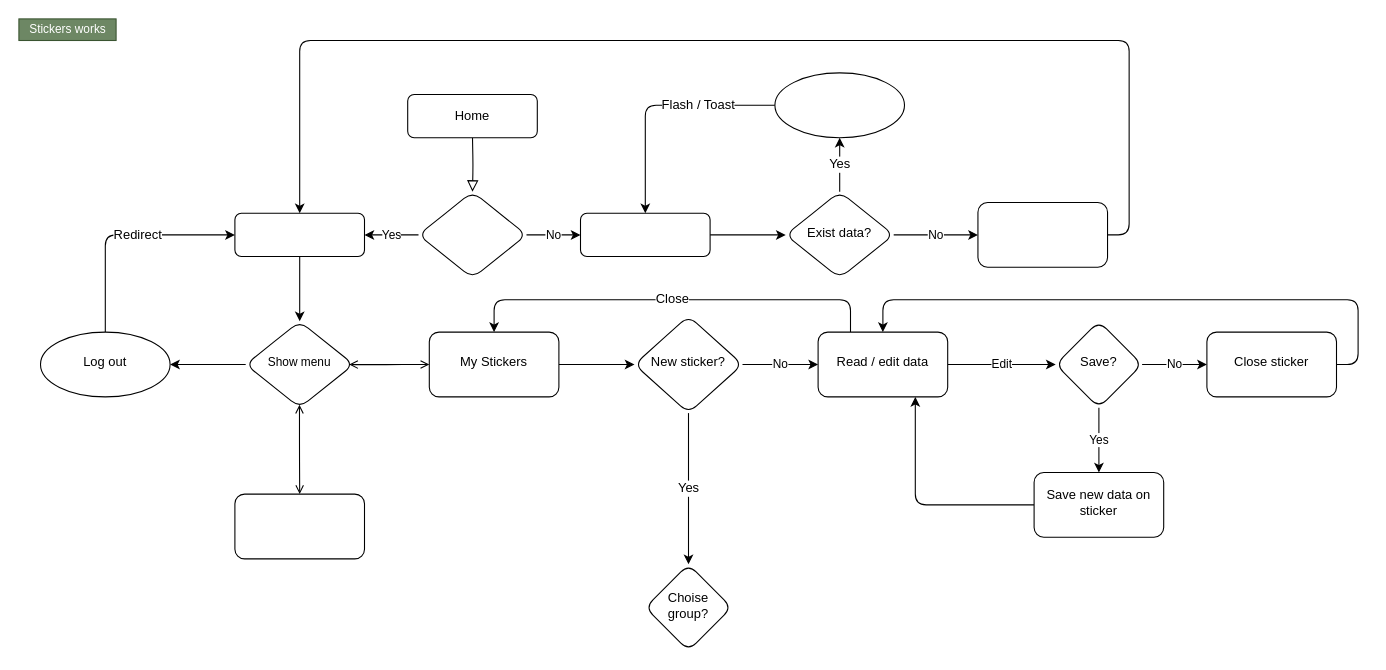
Image size: 1386x670. Some labels were removed from this diagram. The shapes that lost their labels are listed below. From the top down, each one's box as (x1, y1, x2, y2) in pixels, then its label:
(774, 72, 905, 138): Exist Acc!
(234, 212, 364, 256): Log in
(417, 191, 526, 278): User auth?
(579, 212, 710, 256): Registration
(977, 201, 1108, 267): Create acc
(234, 493, 364, 559): Properties
